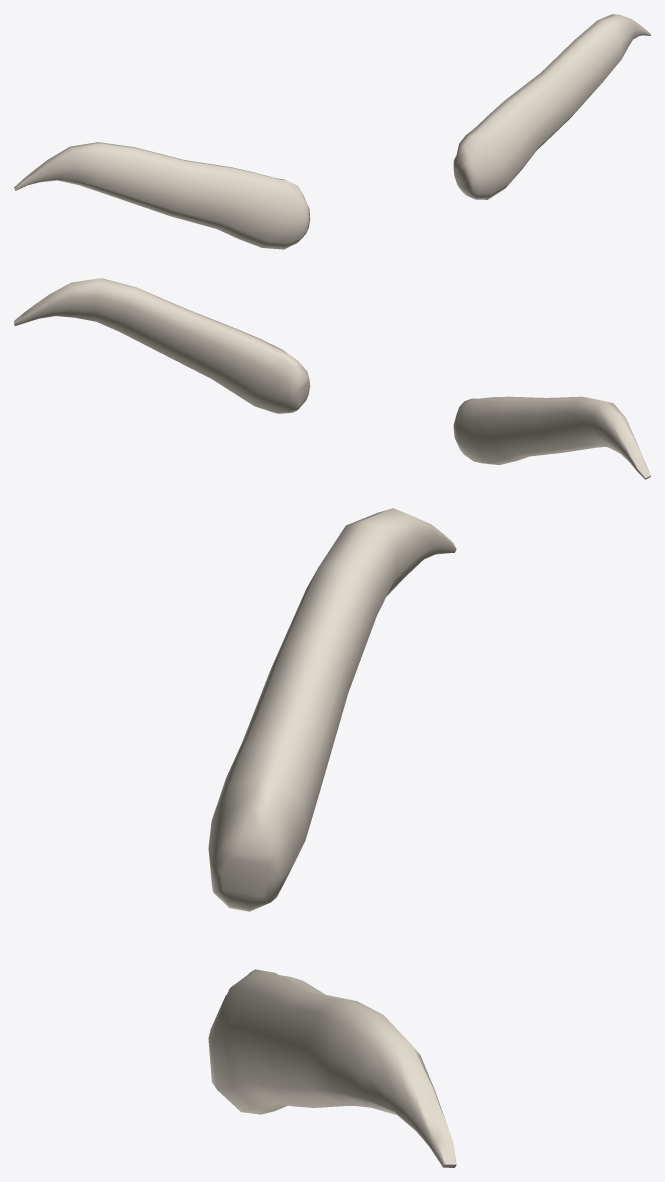
File: Eyebrows_02_07.fbx
3 renders of one model, top to bottom at view 1: azimuth 30°, elevation 25°; view 2: azimuth 150°, elevation 25°; view 3: azimuth 270°, elevation 25°, orthographic. The views are drawn at different scales.
Visible parts, largest first — view 1: Eyebrows_02_07; view 2: Eyebrows_02_07; view 3: Eyebrows_02_07.
Part boxes in pixels (<box>): Eyebrows_02_07: <box>14,14,650,249</box>; Eyebrows_02_07: <box>14,278,650,479</box>; Eyebrows_02_07: <box>208,508,456,1167</box>.
Bounding box in the file's own units: 18.03 × 3.24 × 3.04.
